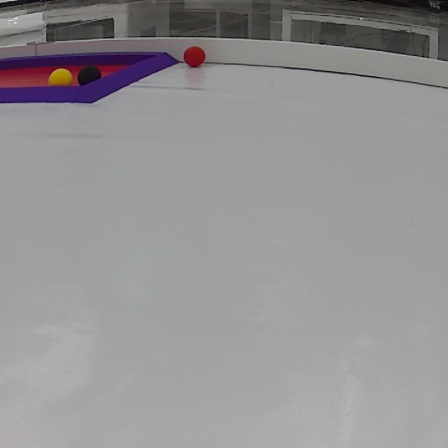black: (79, 67, 99, 84)
red: (184, 44, 208, 66)
red_aim: (0, 54, 179, 107)
yellow: (45, 67, 70, 88)
